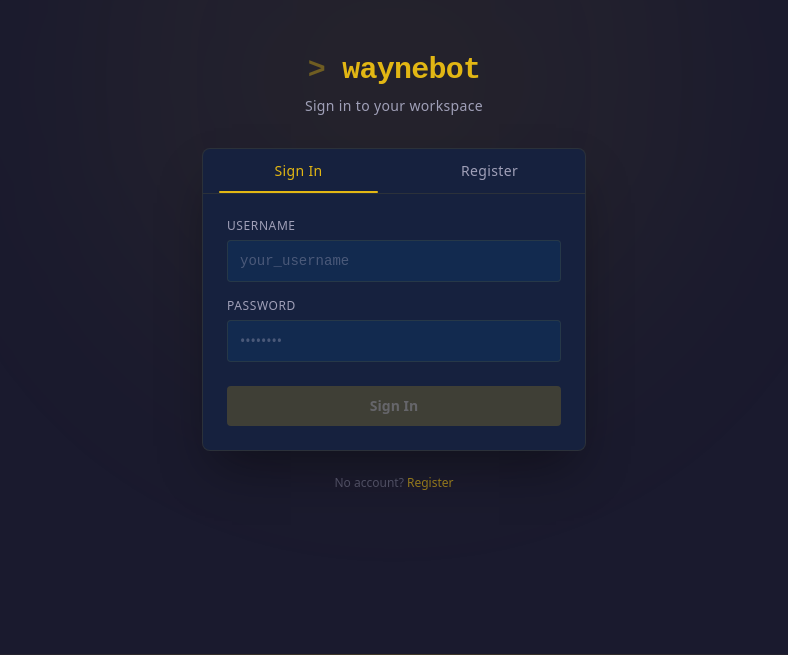
LoginPage › clears error when switching modes
Type "alice" into the field labelled "Username". click: x=394, y=260
box: [227,240,561,282]
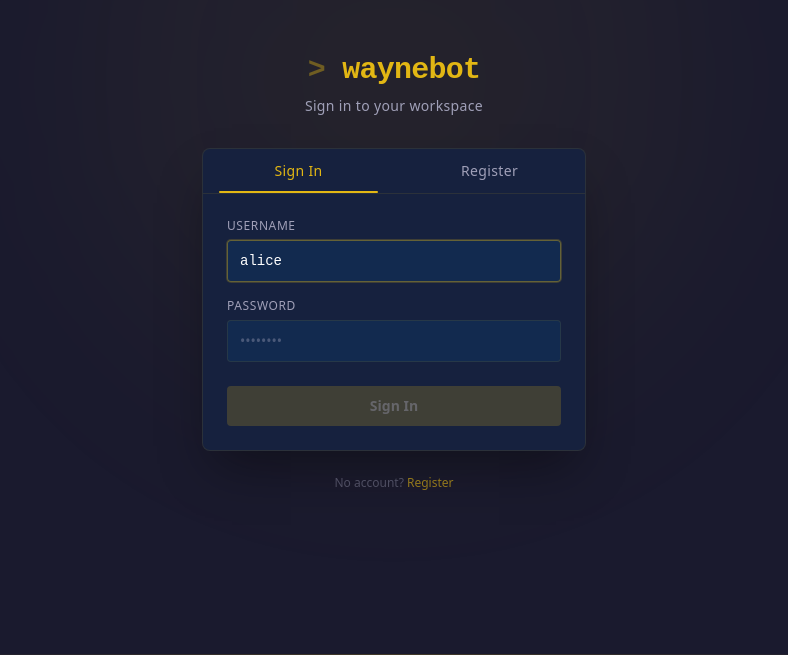
Type "password123" into the password field labelled "Password". click: x=394, y=340
box: [227,320,561,362]
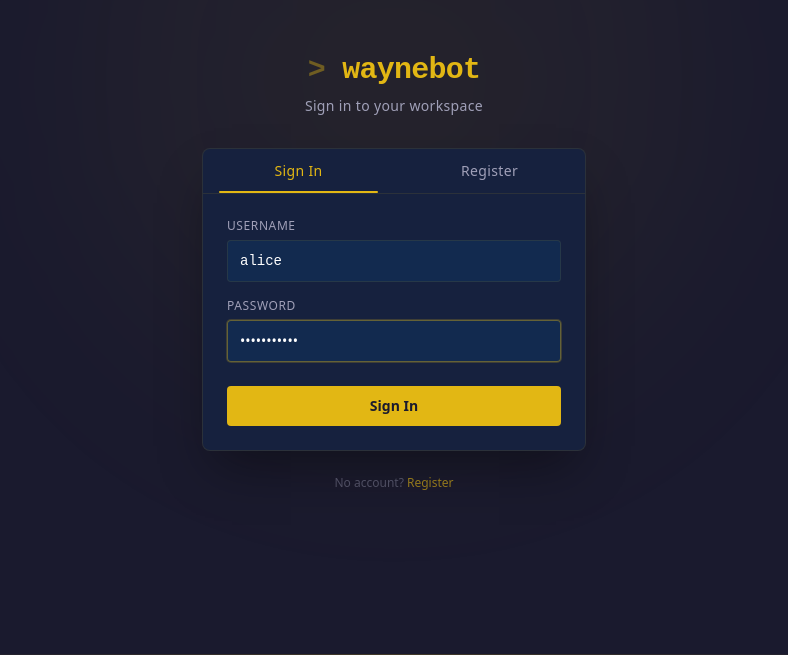
Click the submit button. click: x=394, y=406
box: [227,386,561,426]
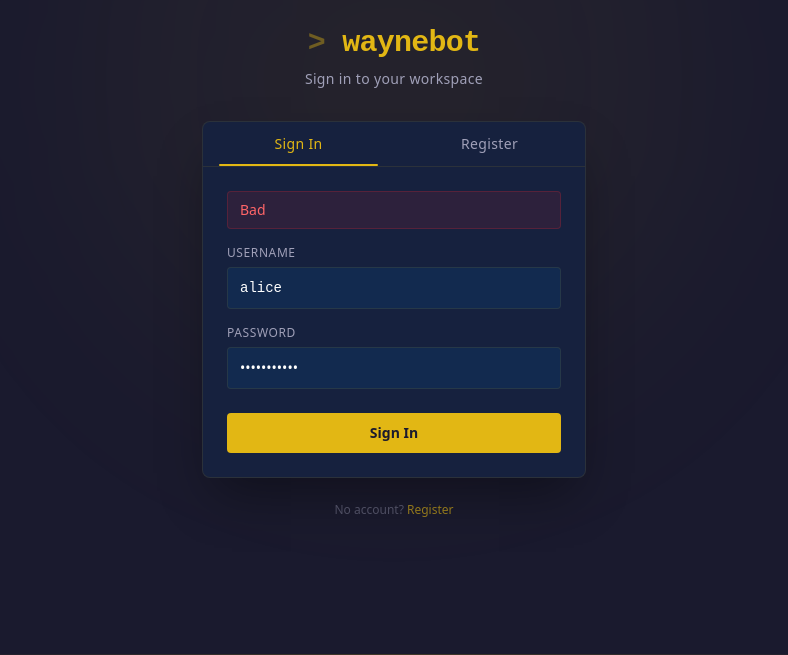
Check: the message "Bad" is shown, box [227,190,561,228]
Click the button with test id "tab-register". click: x=490, y=144
box: [394,122,585,166]
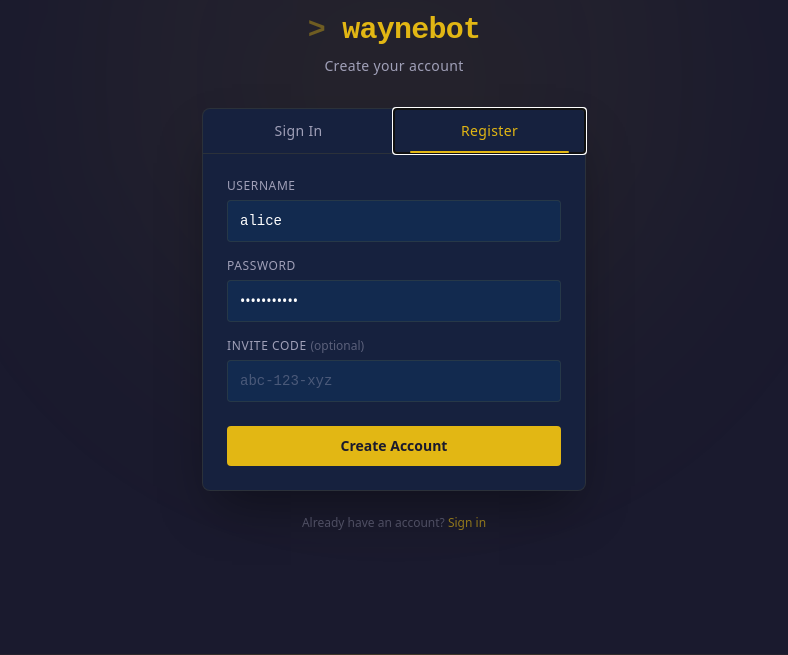
Check: the message "Bad" is gone
